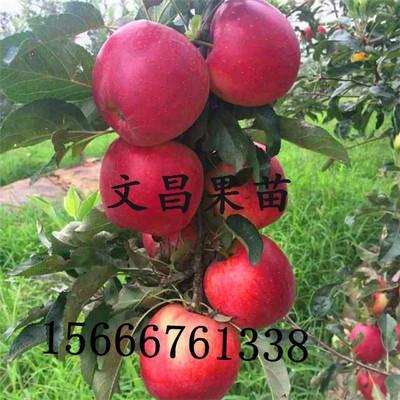apple: (91, 18, 209, 145), (99, 138, 203, 240), (201, 1, 301, 106), (138, 303, 240, 399), (200, 235, 297, 330), (347, 321, 386, 365)
